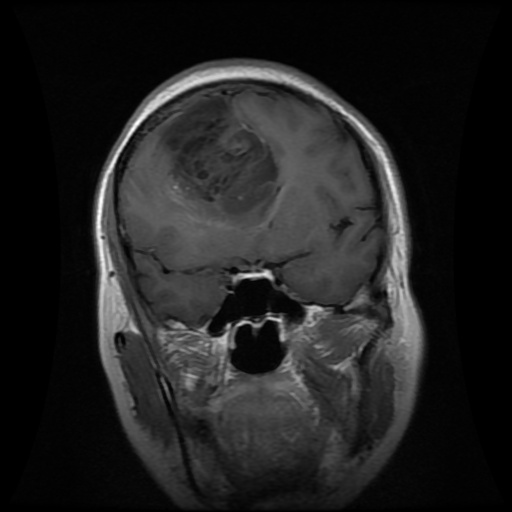glioma: (155, 95, 284, 227)
